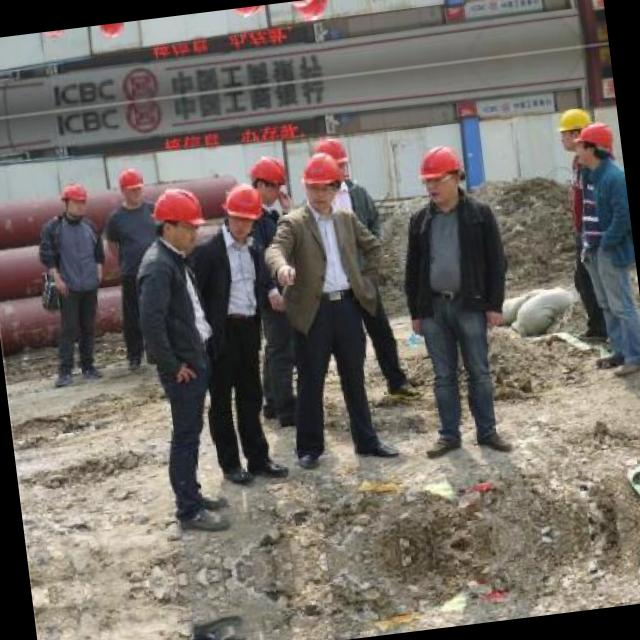helmet: (146, 185, 204, 252), (413, 142, 468, 210), (296, 150, 347, 211), (216, 180, 264, 240), (312, 128, 356, 183), (246, 154, 288, 208), (550, 104, 592, 152), (578, 120, 617, 167), (112, 164, 148, 209), (56, 180, 89, 220), (296, 0, 338, 28), (95, 21, 129, 42), (228, 4, 268, 20), (36, 28, 68, 42)
